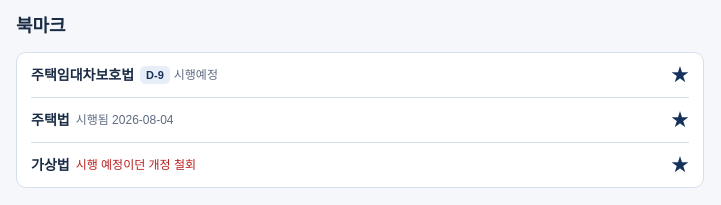
Test case: BookmarkListView › 해제하면 DELETE 하고 그 자리에 되돌리기 — 누르면 PUT 으로 복원
This screenshot has width=721, height=205.
Click the button named "주택법 북마크 해제". click: (680, 120)
box: [671, 111, 689, 129]
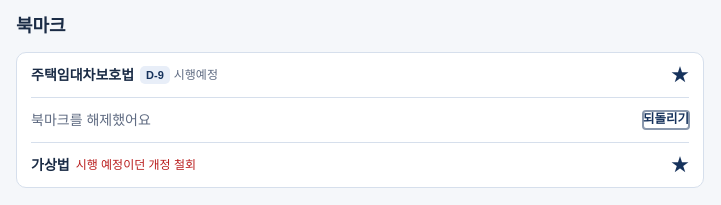
expect the text "북마크를 해제했어요" is shown: met, box [31, 110, 151, 130]
Click the button "되돌리기". click: (666, 120)
box: [643, 111, 689, 129]
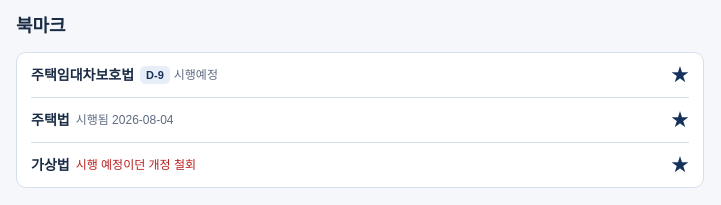
expect the link "주택법" is shown: met, box [31, 110, 70, 130]
